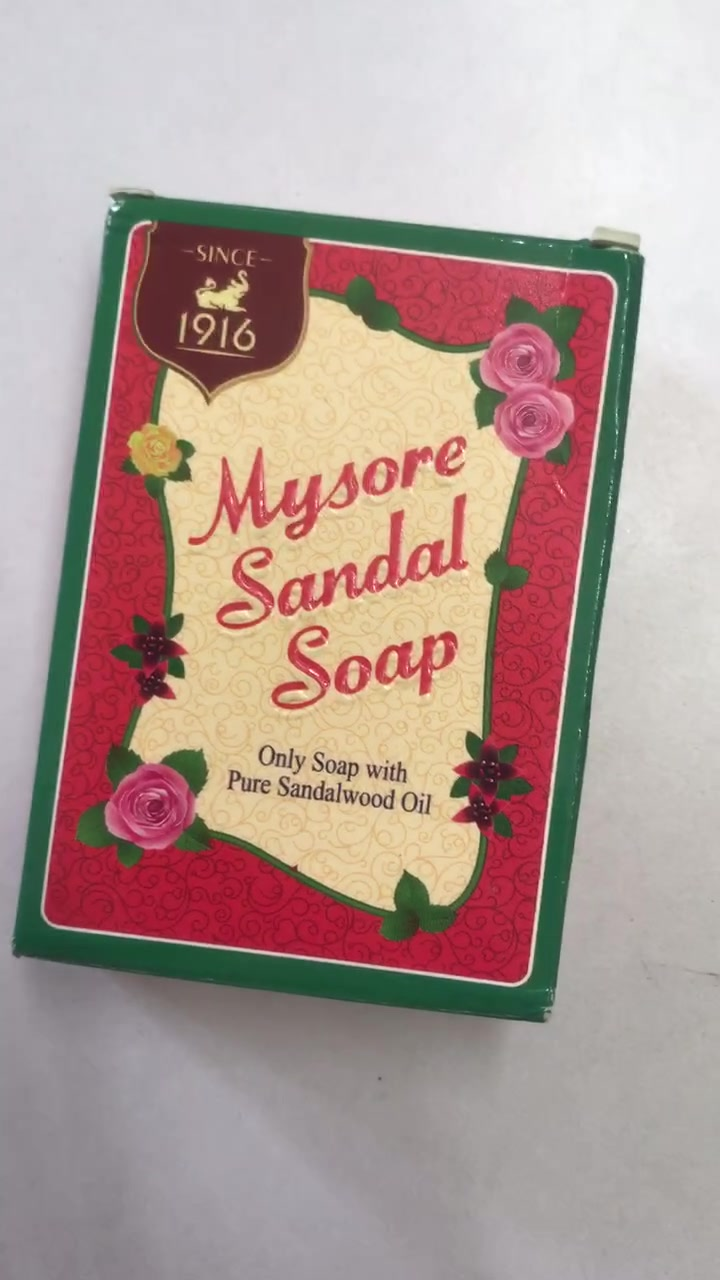mysore sandal soap: (19, 193, 638, 1020)
